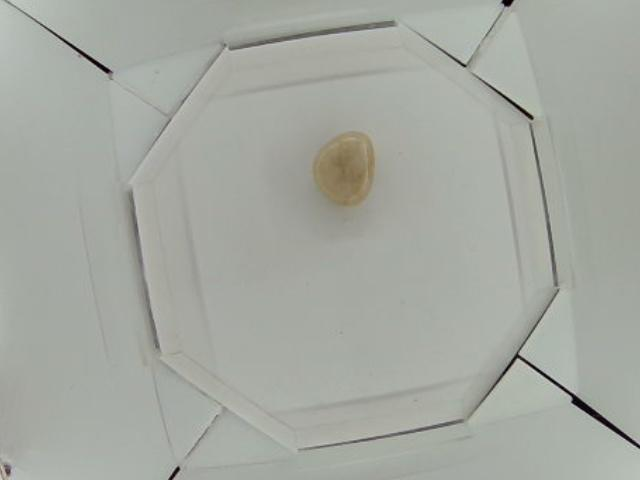Pebble: (311, 129, 373, 206)
